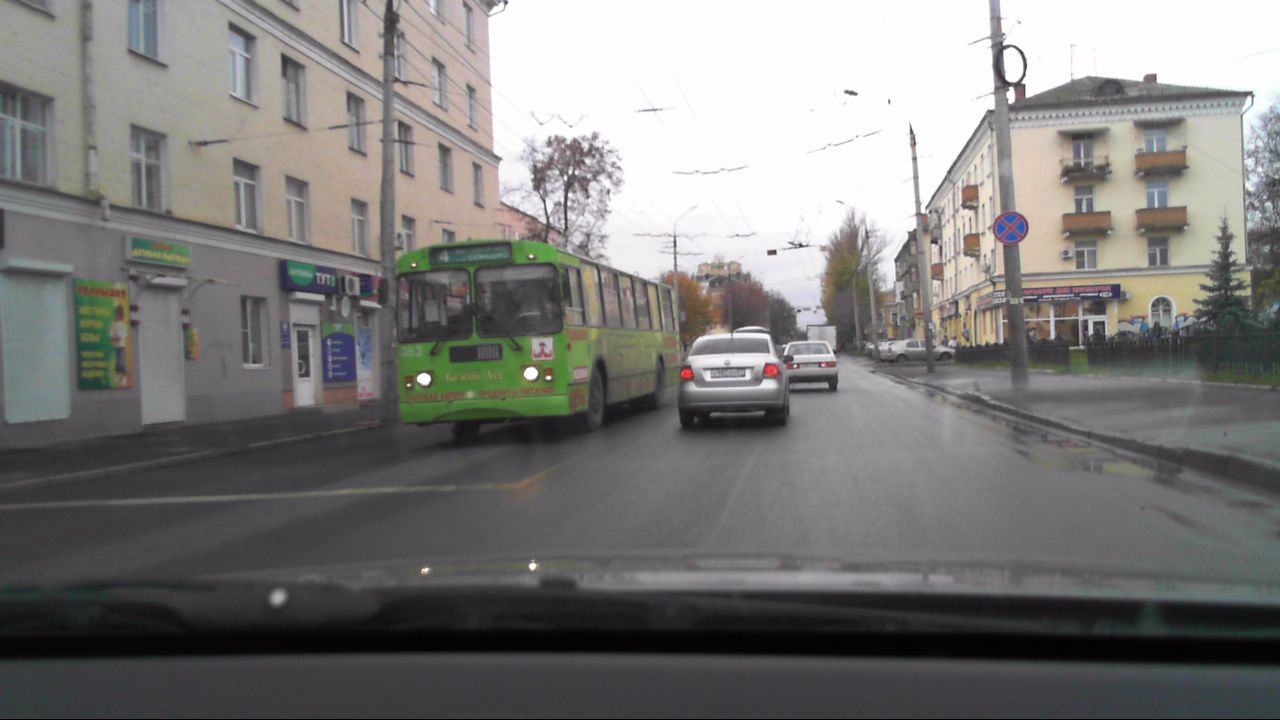No Parking: (989, 210, 1032, 247)
